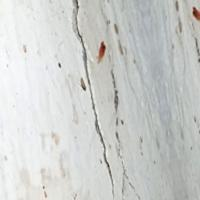crack: (57, 1, 130, 200)
